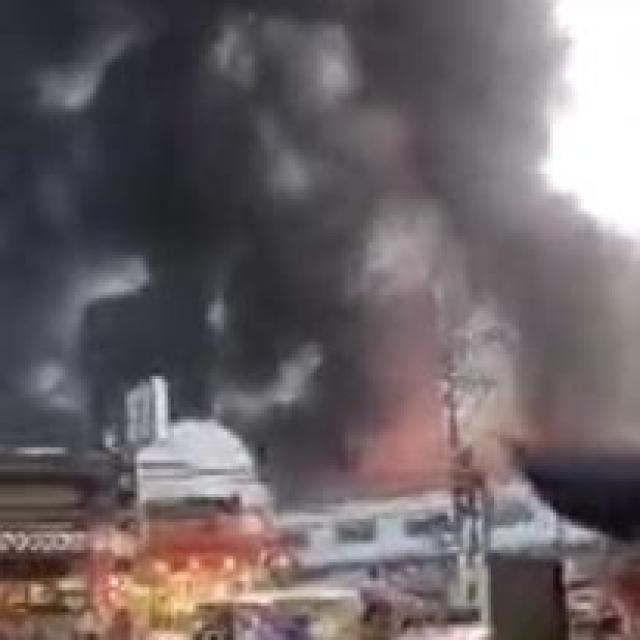Fire: (347, 366, 506, 487)
Smoke: (0, 3, 640, 468)
